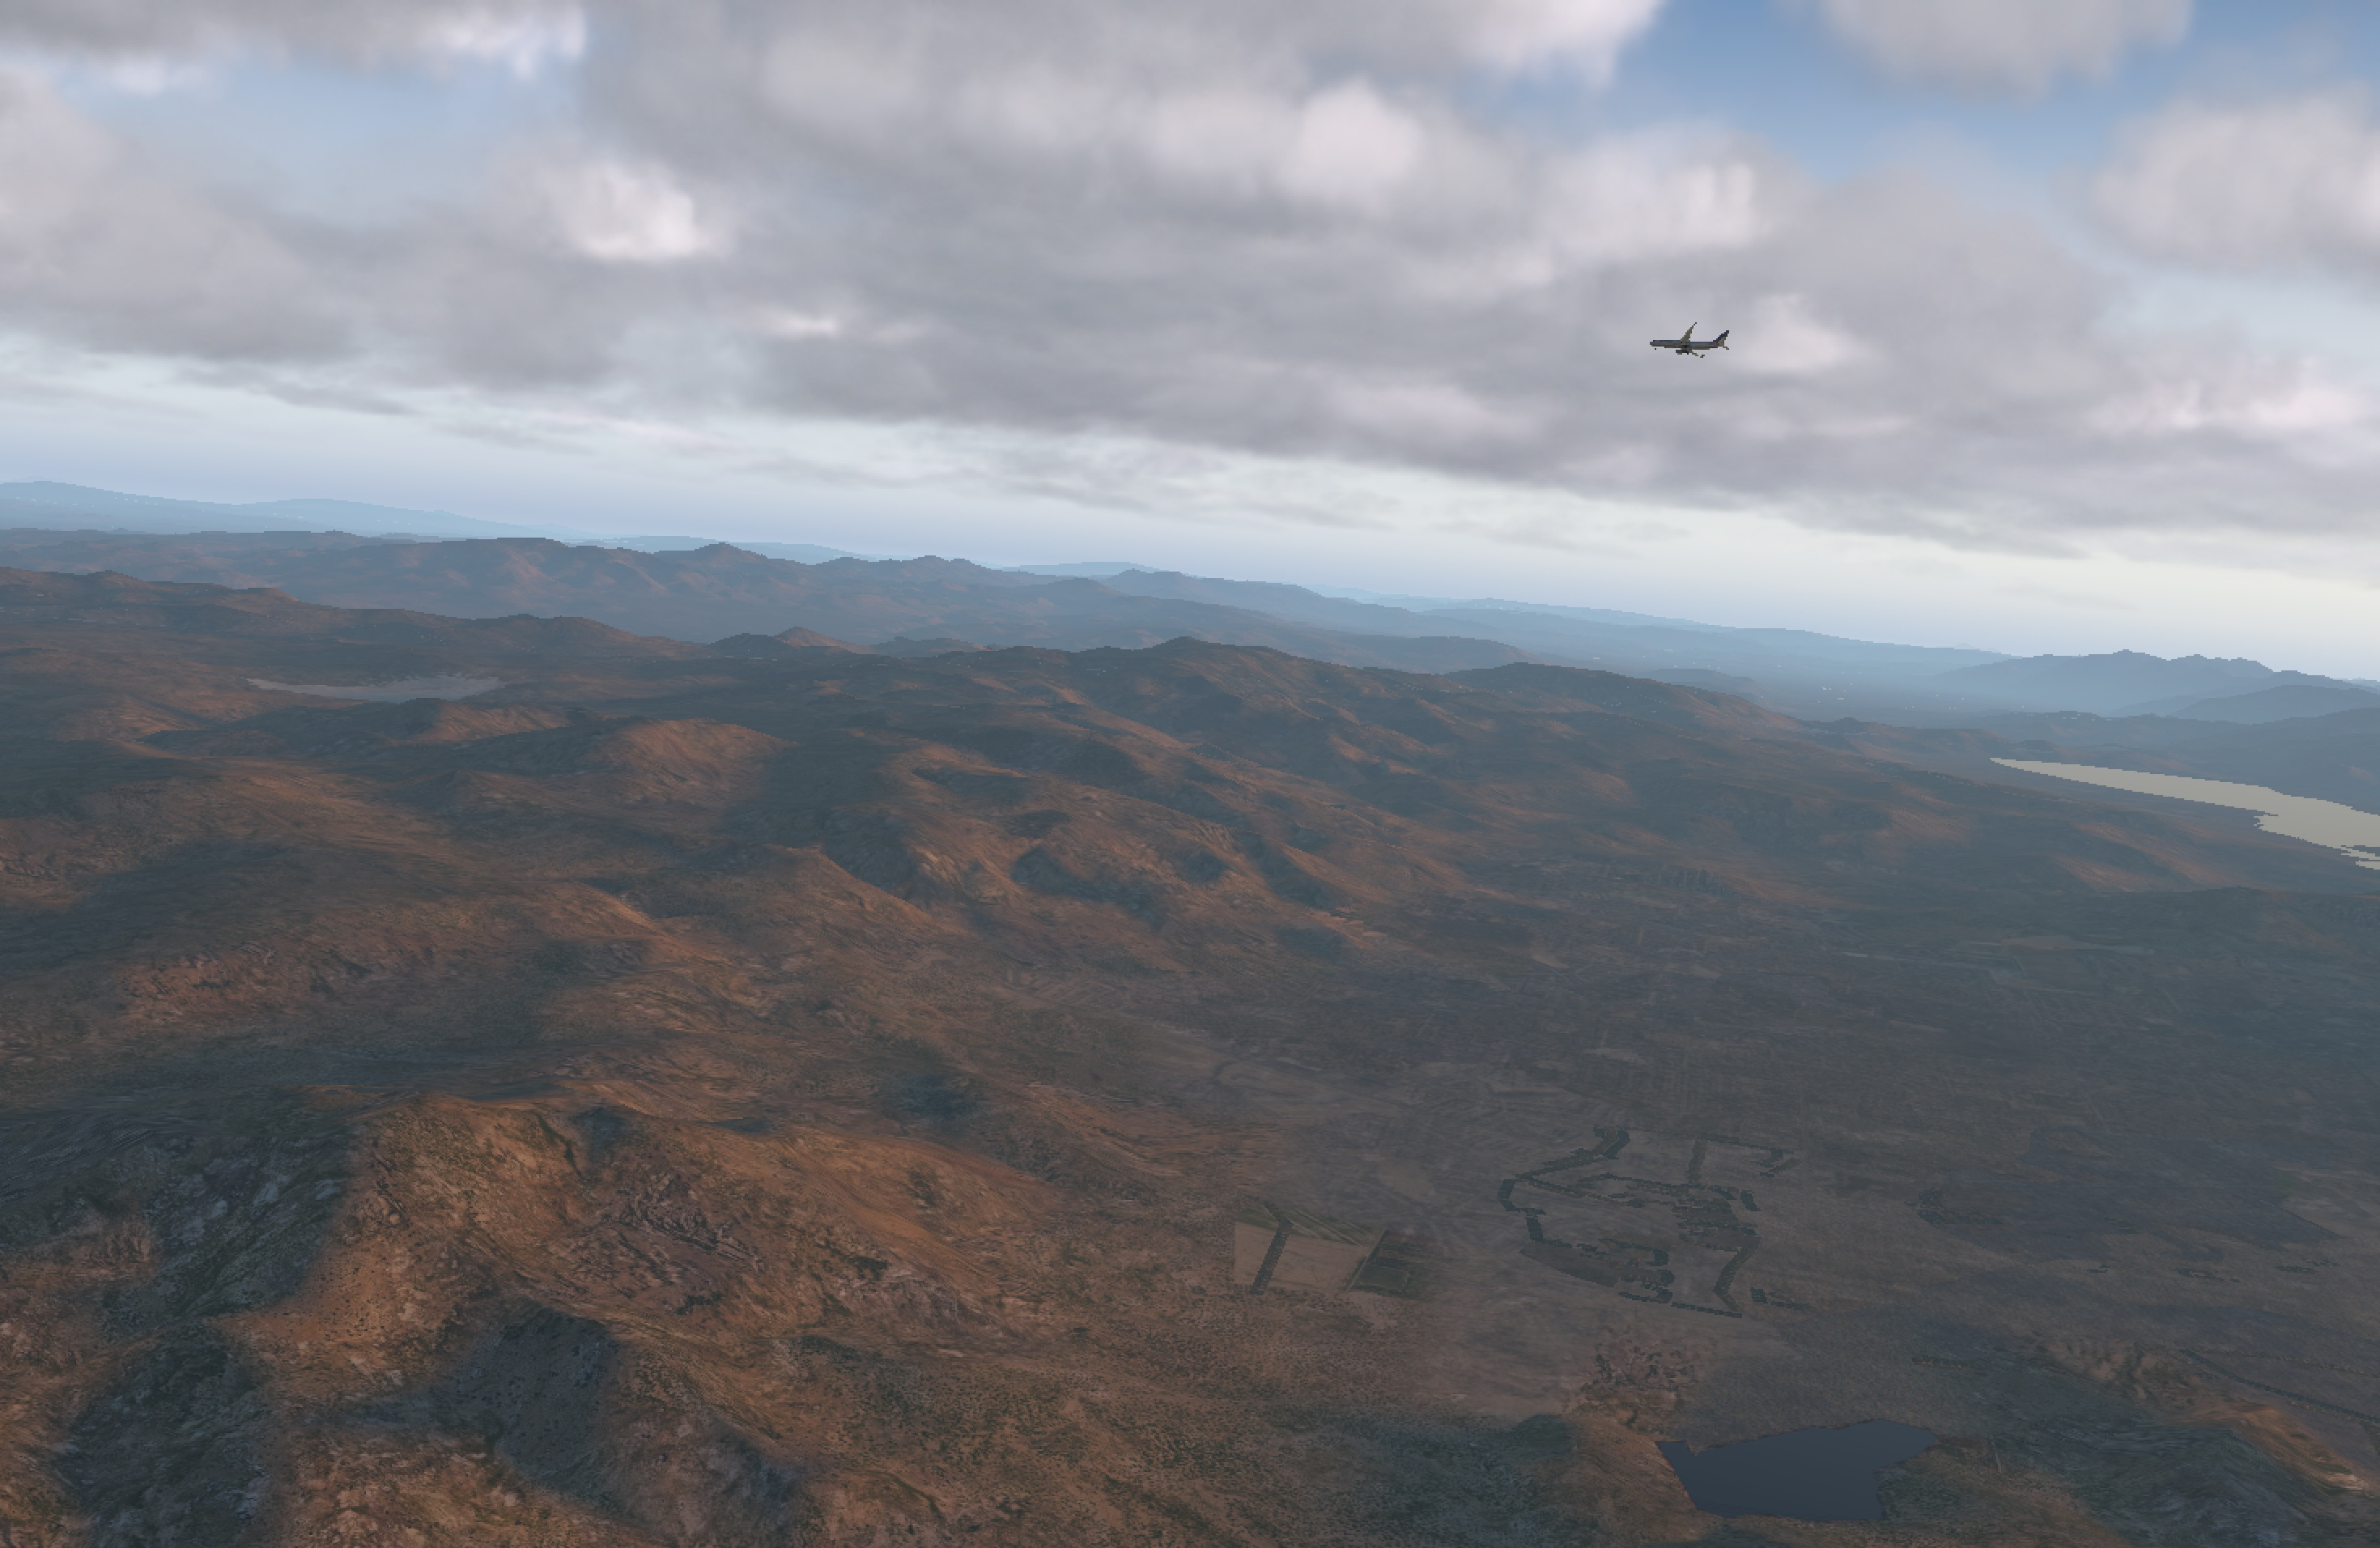aircraft: (1648, 331, 1721, 359)
